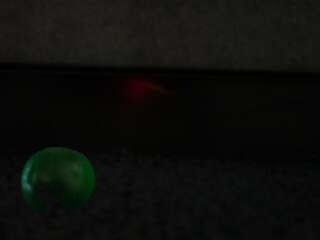Lime: (23, 148, 95, 222)
